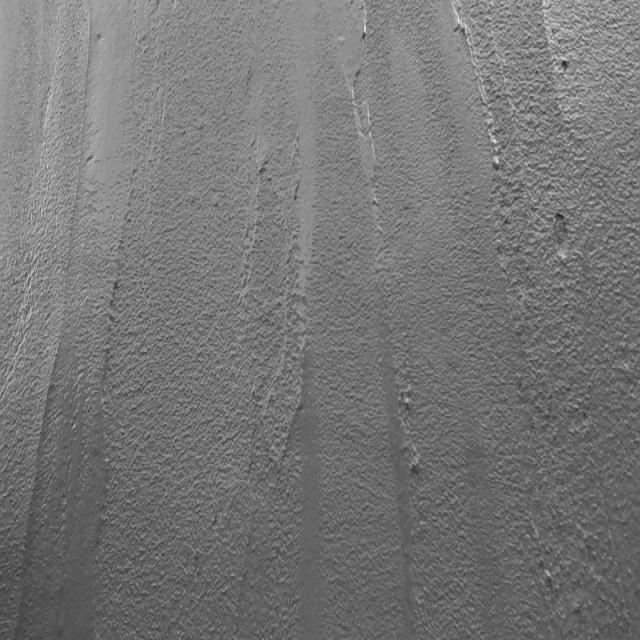trowels marks: (22, 14, 92, 624)
